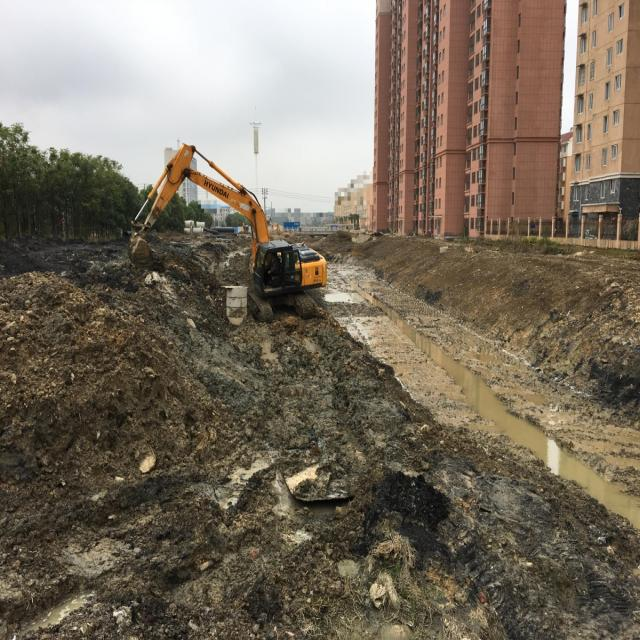excavator: (127, 142, 327, 324), (271, 221, 290, 237)
